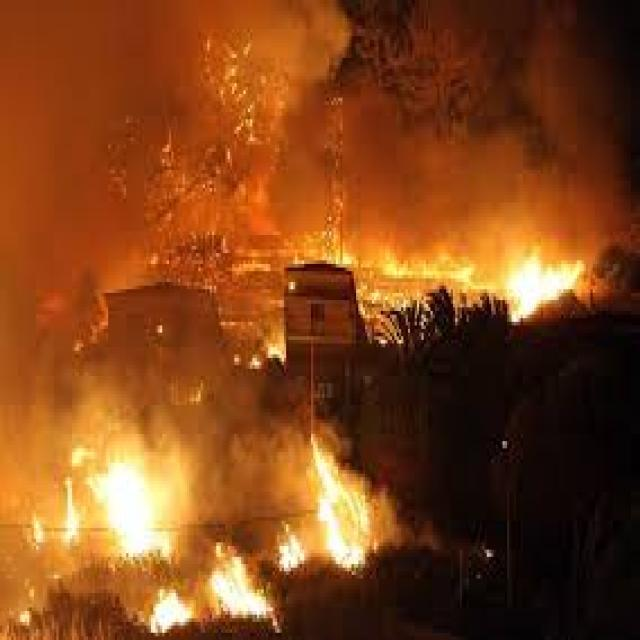Fire: (0, 426, 286, 640), (316, 210, 594, 360), (264, 435, 412, 583)
Smoke: (0, 10, 348, 282)
